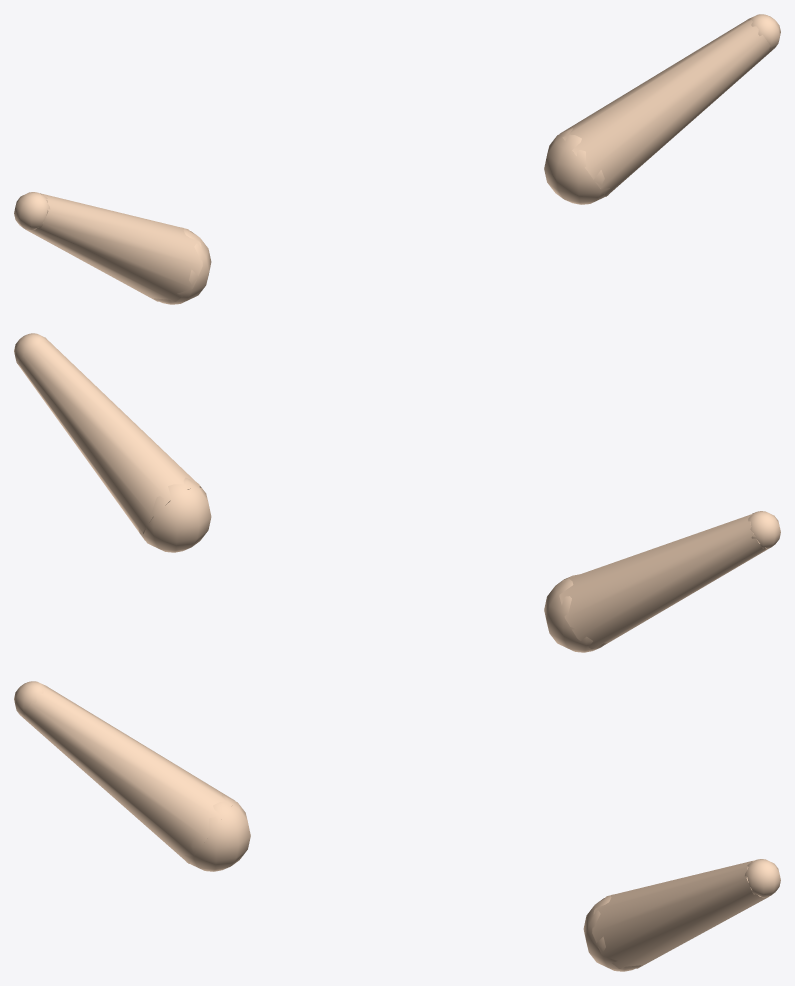
Rendered from Trait_LongEars.fbx.
The picture shows the model from 3 angles, top to bottom: view 1: azimuth 30°, elevation 25°; view 2: azimuth 150°, elevation 25°; view 3: azimuth 330°, elevation 25°; orthographic projection.
Visible parts, largest first — view 1: Long_Ear, Long_Ear.001, Long_Ear_Cap, Long_Ear_Cap.003, Long_Ear_Cap.002, Long_Ear_Cap.001; view 2: Long_Ear.001, Long_Ear, Long_Ear_Cap, Long_Ear_Cap.002, Long_Ear_Cap.003; view 3: Long_Ear.001, Long_Ear, Long_Ear_Cap.002, Long_Ear_Cap.001, Long_Ear_Cap, Long_Ear_Cap.003.
Boxes of the visible parts, x1,y1,x2,y2 form: Long_Ear: (560,19,772,196); Long_Ear.001: (25,193,202,301); Long_Ear_Cap: (544,128,609,204); Long_Ear_Cap.003: (14,192,49,230); Long_Ear_Cap.002: (153,227,211,304); Long_Ear_Cap.001: (748,14,780,49); Long_Ear.001: (559,514,767,649); Long_Ear: (18,339,201,539); Long_Ear_Cap: (138,477,211,552); Long_Ear_Cap.002: (544,574,606,652); Long_Ear_Cap.003: (748,511,780,549); Long_Ear.001: (22,686,234,863); Long_Ear: (592,860,769,968); Long_Ear_Cap.002: (185,795,250,871); Long_Ear_Cap.001: (745,859,780,897); Long_Ear_Cap: (583,894,641,971); Long_Ear_Cap.003: (14,681,46,716).
Size of the model in its own units: 134 by 27 by 15.
